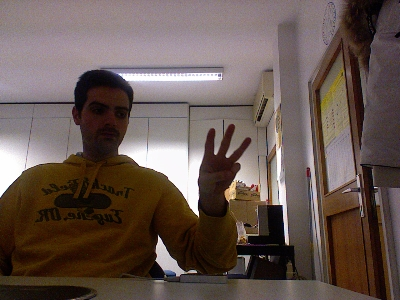三分: (197, 122, 251, 196)
